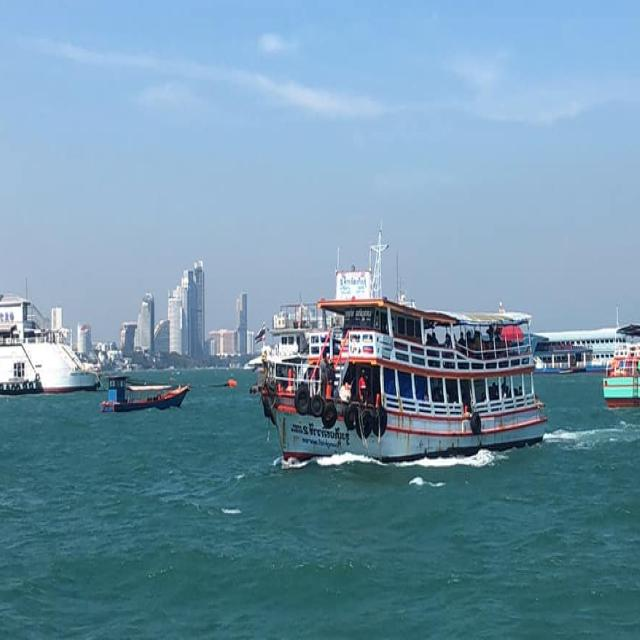fishing boat: (104, 372, 200, 416)
houseboat: (0, 284, 94, 407)
passenger ship: (256, 260, 556, 466), (593, 316, 640, 411)
